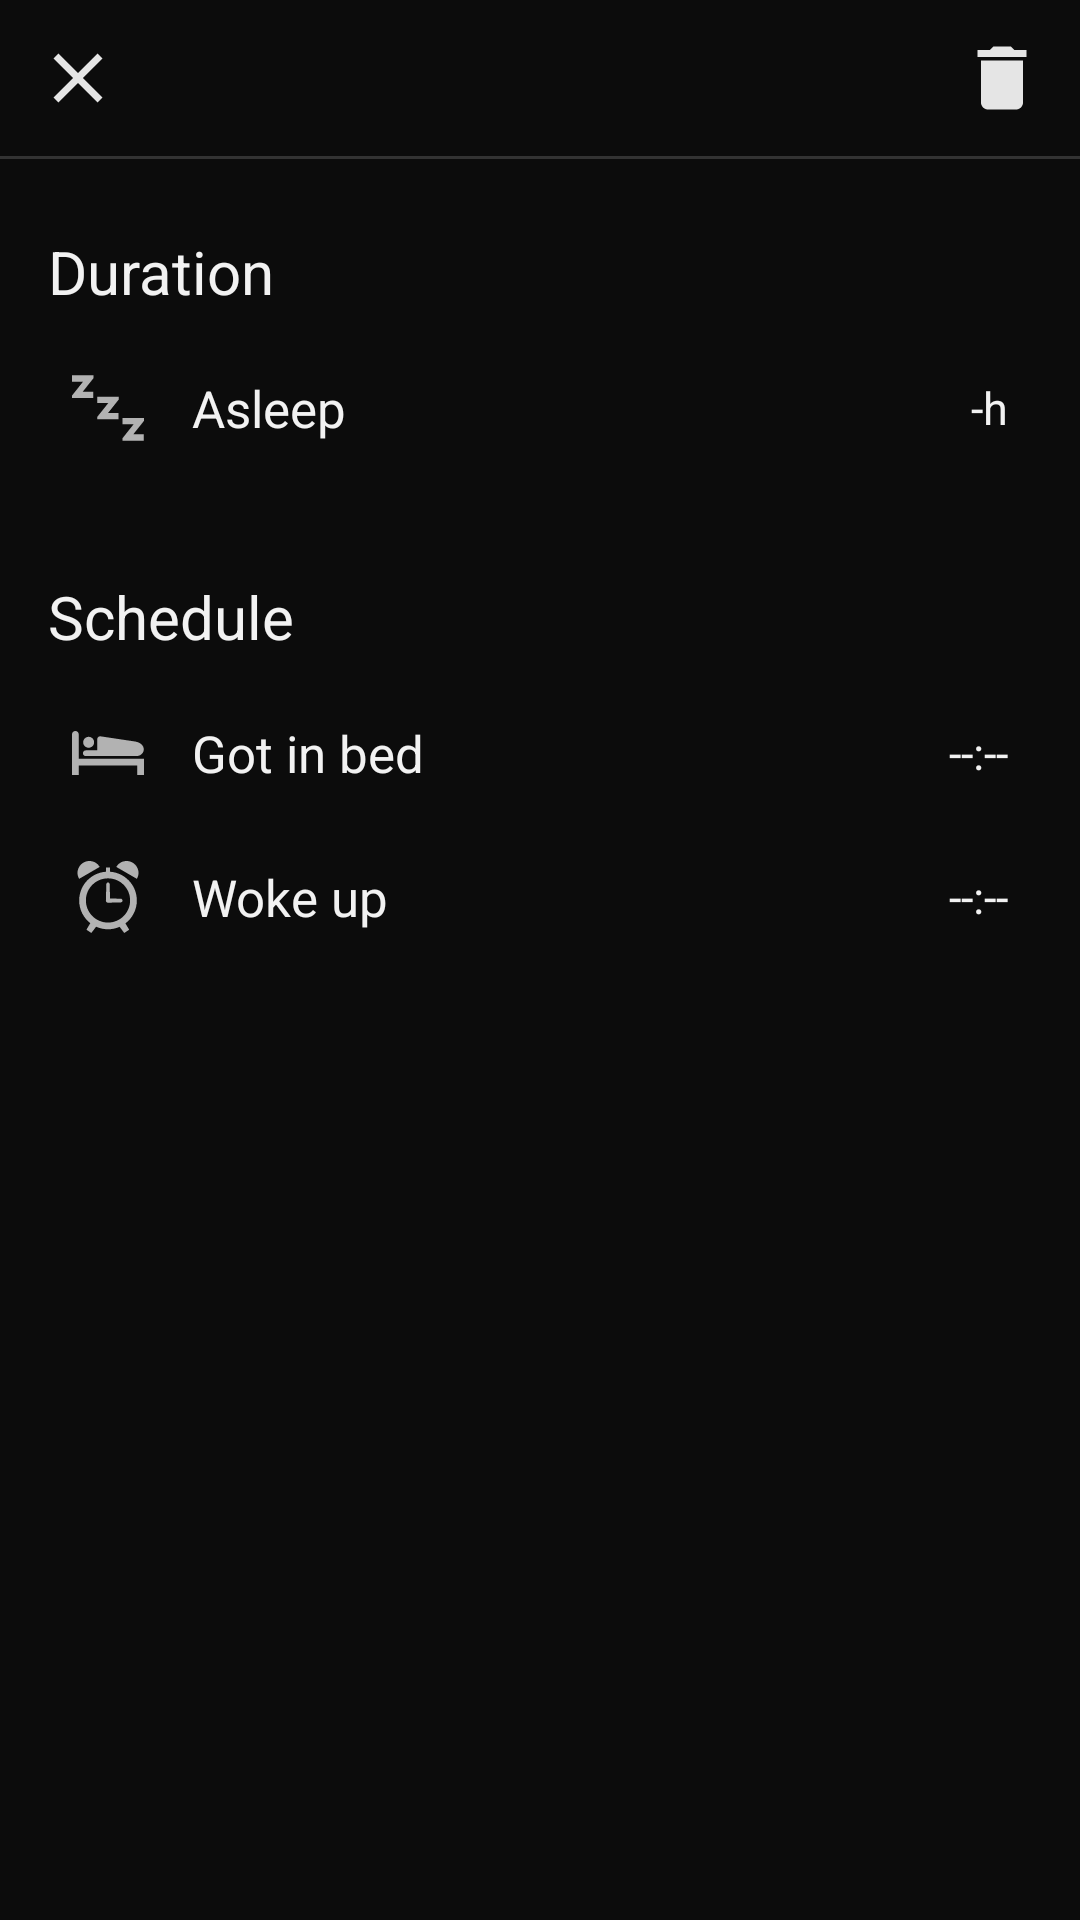

Named icons in this screenshot (1080×1920) and their bounding boxes, [x1,y1,x2,y2]:
alarm: [77,861,139,933]
close: [53,53,103,103]
delete: [977,46,1027,110]
